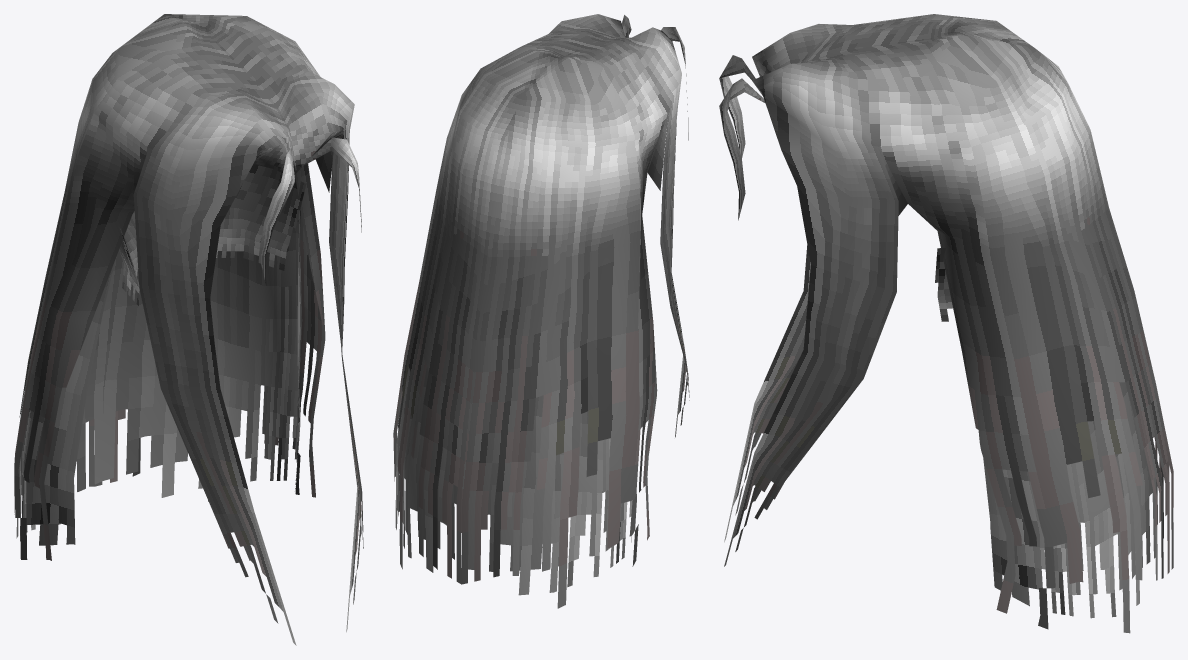
3 renders of one model, left to right at view 1: azimuth 30°, elevation 25°; view 2: azimuth 150°, elevation 25°; view 3: azimuth 270°, elevation 25°, orthographic. The views are drawn at different scales.
Parts seen in each view (by area): view 1: mesh00; view 2: mesh00; view 3: mesh00.
Boxes of the visible parts, left/top/right/bottom form: mesh00: left=14, top=14, right=363, bottom=645; mesh00: left=393, top=14, right=689, bottom=608; mesh00: left=719, top=14, right=1173, bottom=633.
Bounding box in the file's own units: 23.07 × 47.82 × 32.14.
Materials: 1 (1 with a texture image).
